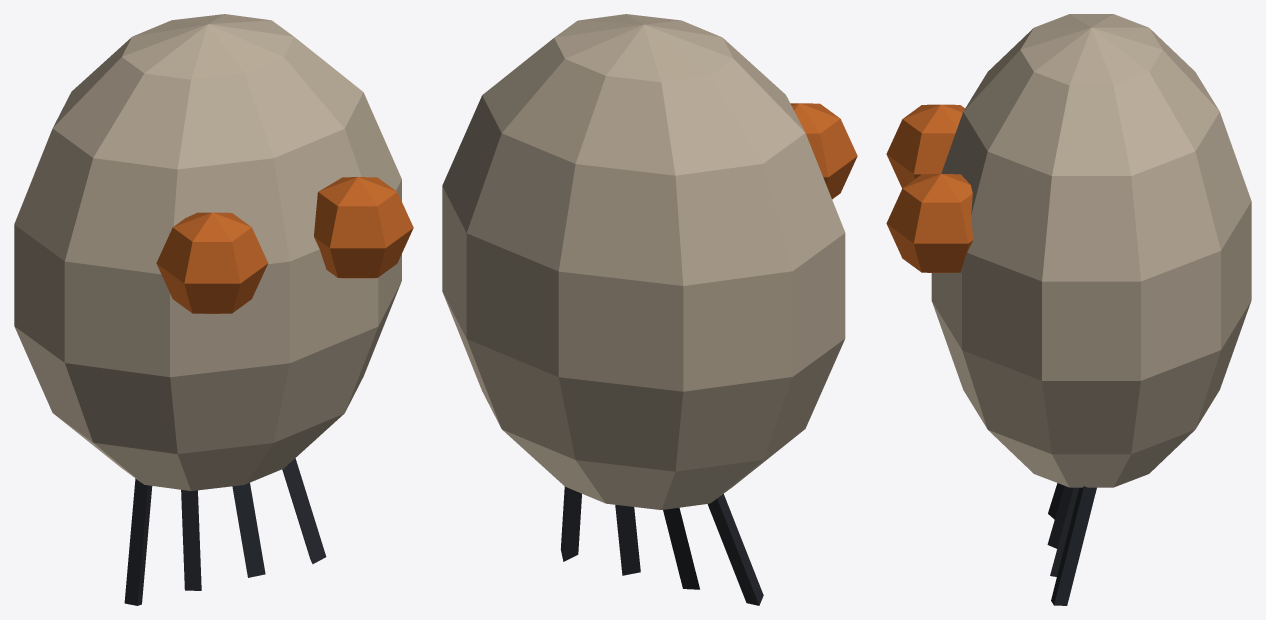
Rendered from droid-uncanniness-motivator.glb.
3 renders of one model, left to right at view 1: azimuth 30°, elevation 25°; view 2: azimuth 150°, elevation 25°; view 3: azimuth 270°, elevation 25°, orthographic. The views are drawn at different scales.
Visible parts, largest first — view 1: m; view 2: m; view 3: m.
Part boxes in pixels (x1=…): m: x1=14, y1=14, x2=413, y2=605; m: x1=442, y1=14, x2=857, y2=605; m: x1=886, y1=14, x2=1251, y2=605.
Size of the model in its own units: 0.1 by 0.1554 by 0.096.
